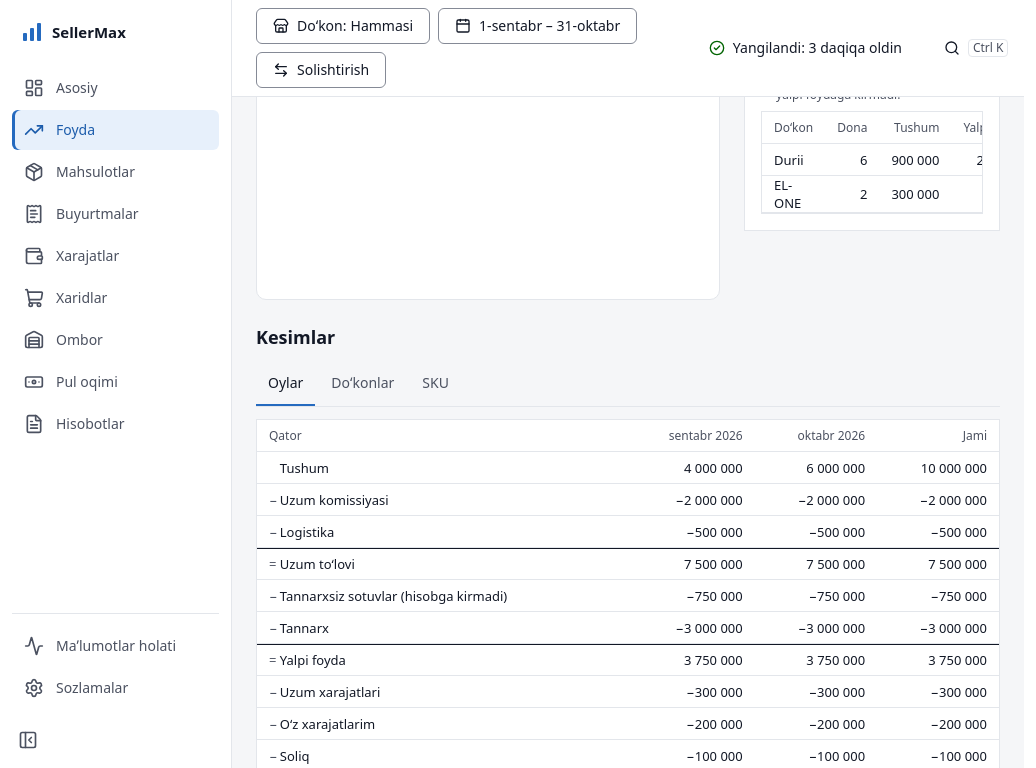
Test: kesimlar › do'konlar: URL'da view=shop, do'kon nomlari, to'g'ridan-to'g'ri / taqsimlangan qatorlar, taqsimlanmagan ustun
The width and height of the screenshot is (1036, 768).
(page scrolled)
Click the tab "Doʻkonlar": (363,384) [319,362,406,406]
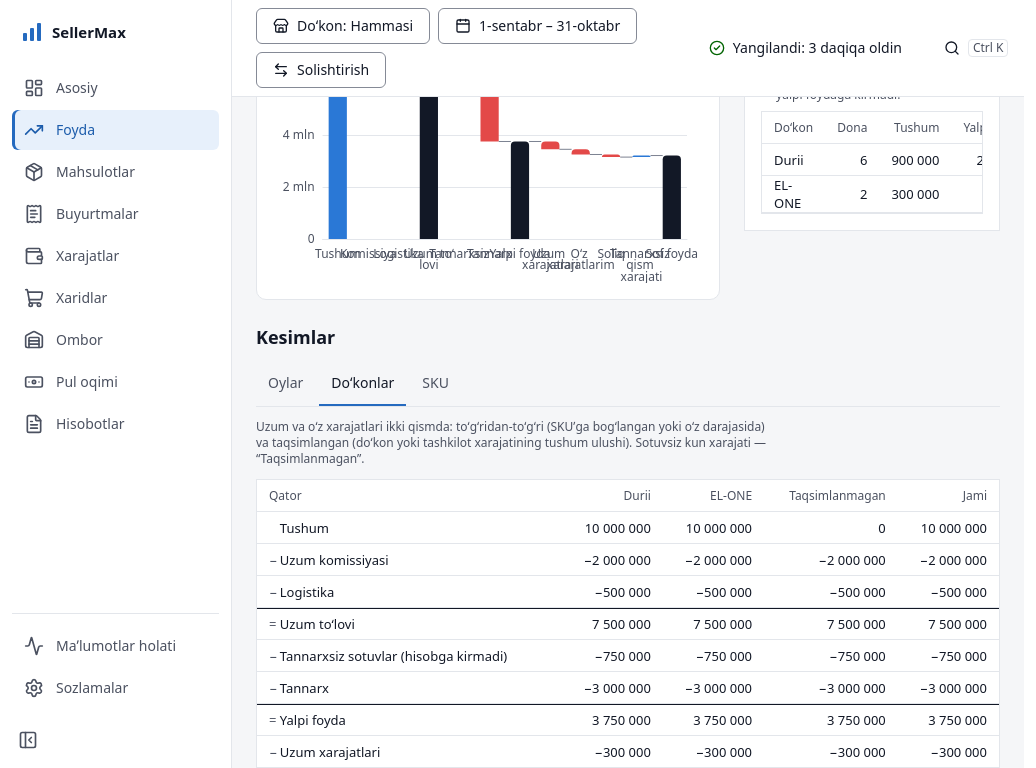
Result: the column headings read "Qator", "Durii", "EL-ONE", "Taqsimlanmagan", "Jami", in this order at [257,480,562,512]; [562,480,663,512]; [663,480,764,512]; [764,480,898,512]; [898,480,999,512]
Result: the text "Sotuvsiz kun xarajati" is shown at [256,418,766,467]
